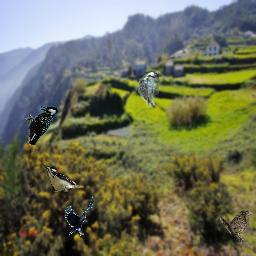Crow: (64, 196, 93, 236)
Sparrow: (220, 209, 252, 242)
Woodpecker: (25, 105, 59, 145), (44, 164, 84, 192), (138, 72, 159, 108)
